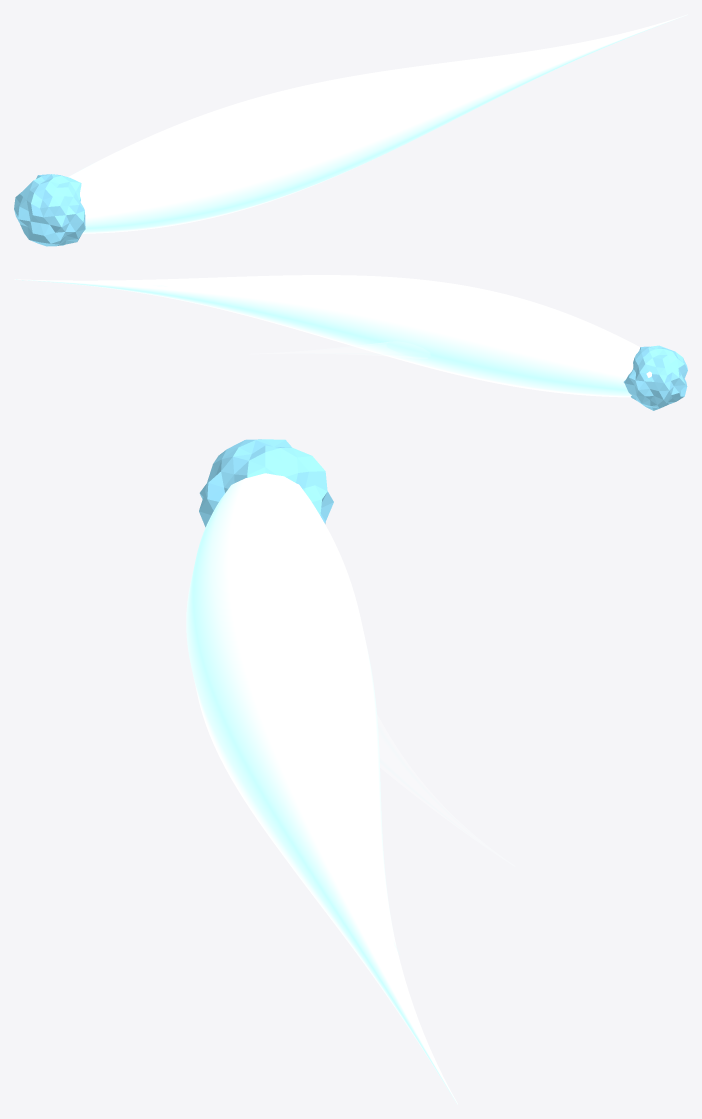
Rendered from comet.glb.
3 views of the same model, one above another, from view 1: azimuth 30°, elevation 25°; view 2: azimuth 150°, elevation 25°; view 3: azimuth 270°, elevation 25° (orthographic). The views are drawn at different scales.
Visible parts, largest first — view 1: Trainee 1, Noyau rocheux; view 2: Trainee 1, Noyau rocheux, Trainee 2; view 3: Trainee 1, Noyau rocheux, Trainee 2.
Part boxes in pixels (x1,y1,x2,y2): Trainee 1: (68,14,687,233); Noyau rocheux: (14,174,85,246); Trainee 1: (14,275,640,397); Noyau rocheux: (623,345,687,410); Trainee 2: (260,342,429,358); Trainee 1: (186,473,457,1104); Noyau rocheux: (199,439,333,527); Trainee 2: (377,715,514,866).
Bounding box in the file's own units: 14.98 × 1.88 × 3.43.
